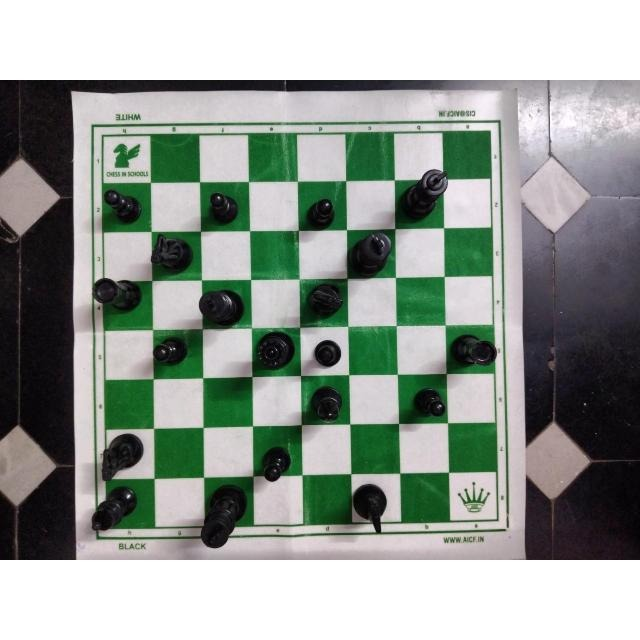black-bishop: (88, 485, 140, 533), (306, 383, 346, 427)
black-king: (199, 482, 250, 550), (397, 166, 449, 226), (347, 230, 397, 277), (197, 285, 249, 328)
black-knight: (100, 430, 153, 482), (349, 480, 388, 535), (150, 232, 196, 275), (303, 281, 347, 321)
black-pawn: (101, 186, 145, 224), (410, 383, 449, 423), (259, 443, 292, 486), (151, 333, 191, 368), (206, 188, 242, 226), (313, 338, 347, 372), (305, 196, 337, 232)
black-queen: (253, 328, 298, 372)
black-rook: (89, 276, 146, 318), (449, 332, 499, 373)
